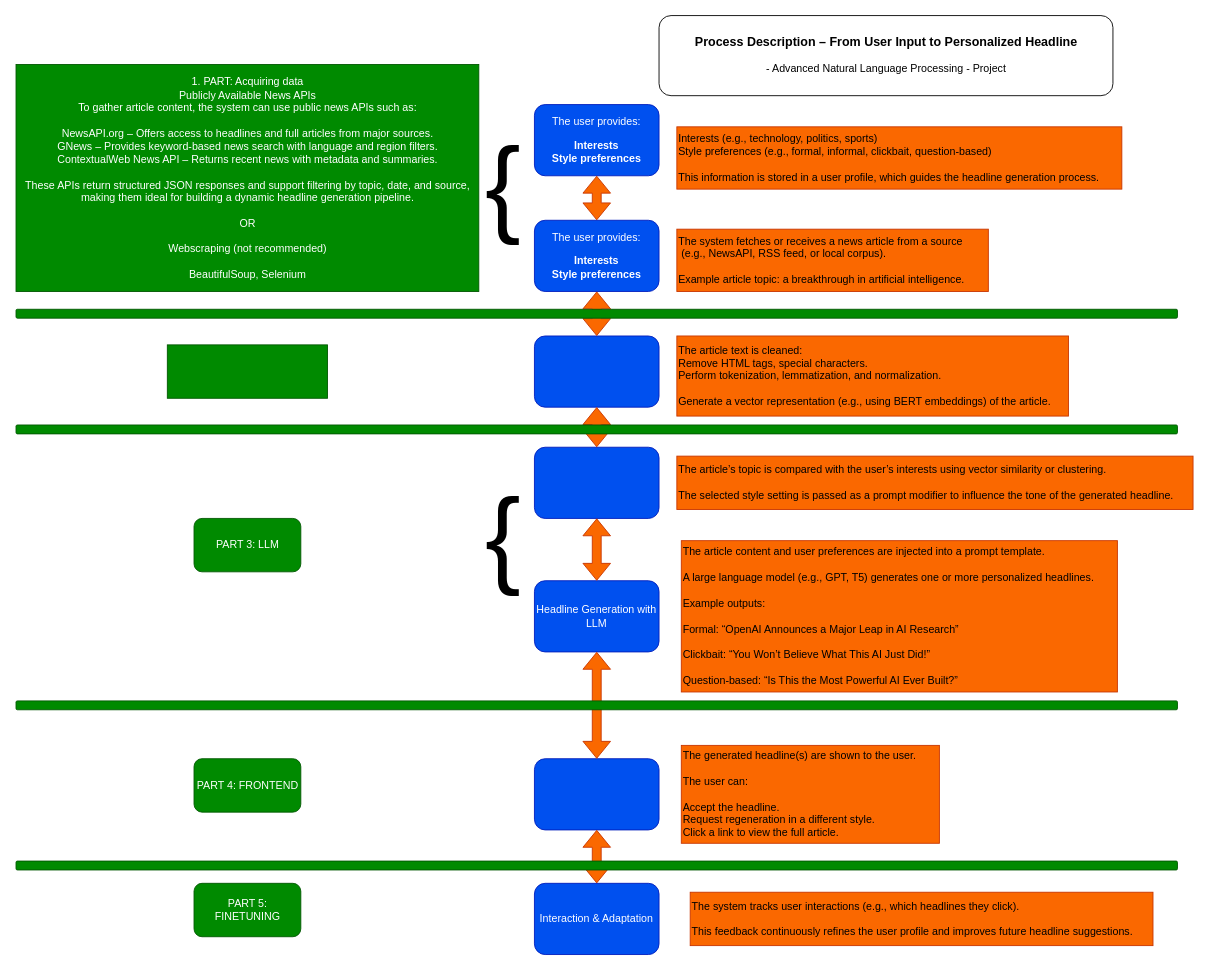
The diagram is 1209 pixels wide and 970 high, and some of its shapes have lost their labels. Here are the shapes that lost their labels. From the top down, the centre of each, then its label:
point (247, 371): PART 2: Cleaning the data
point (596, 371): Text Preprocessing
point (596, 482): Relevance & Personalization
point (596, 794): Output Display
